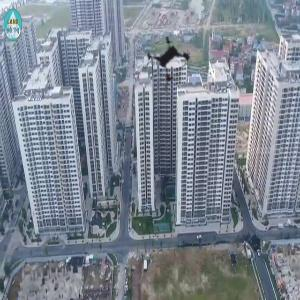drone: (115, 7, 219, 111)
